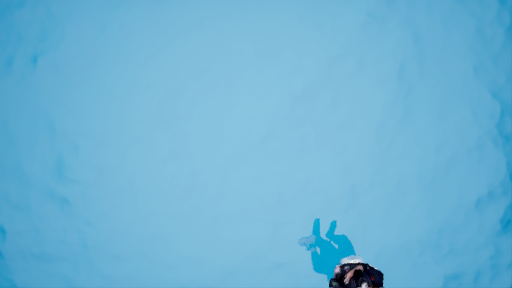person: (300, 219, 393, 288)
